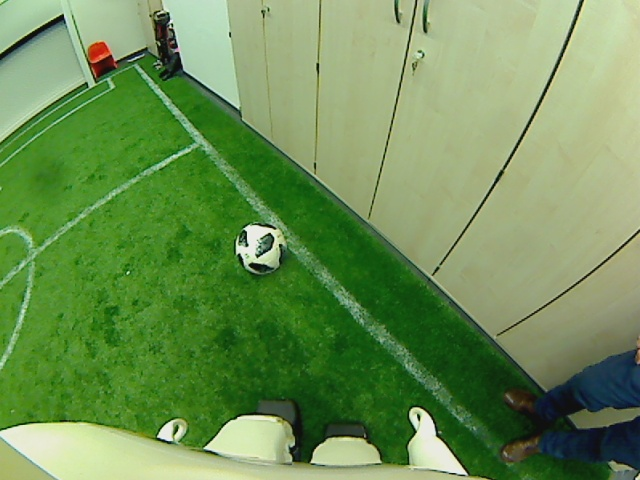ball: (232, 221, 287, 273)
